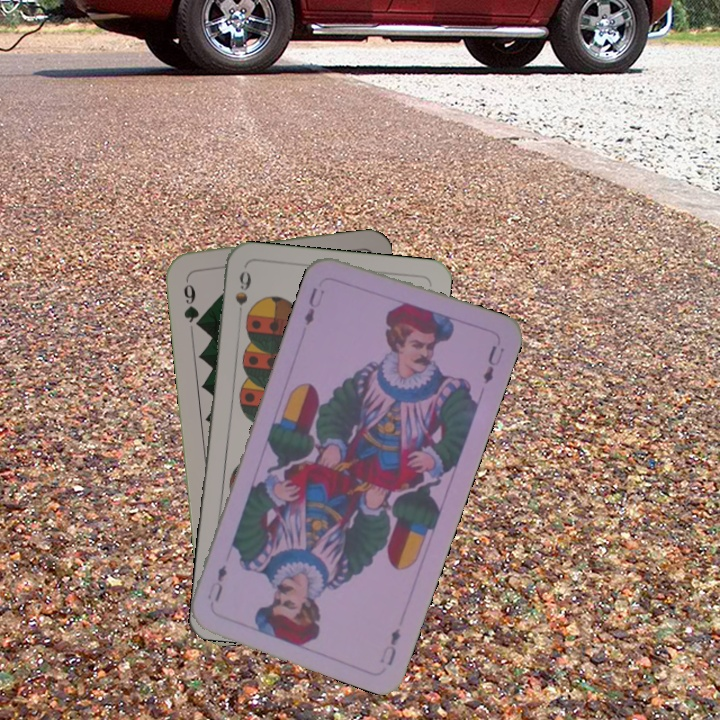EU: (300, 283, 328, 328), (376, 624, 403, 669)
G9: (179, 272, 204, 331)
S9: (231, 266, 254, 321)
